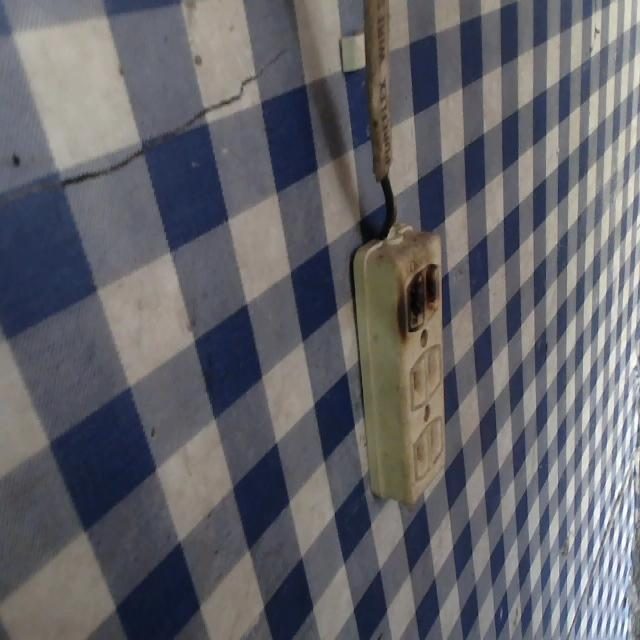-: (397, 259, 444, 329)
